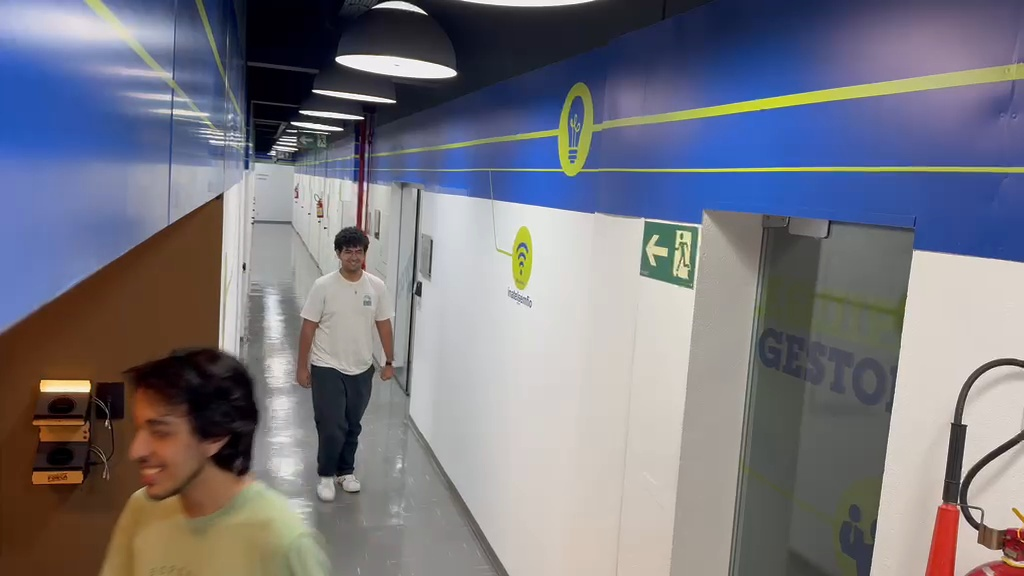person: (98, 348, 333, 572), (296, 226, 396, 499)
